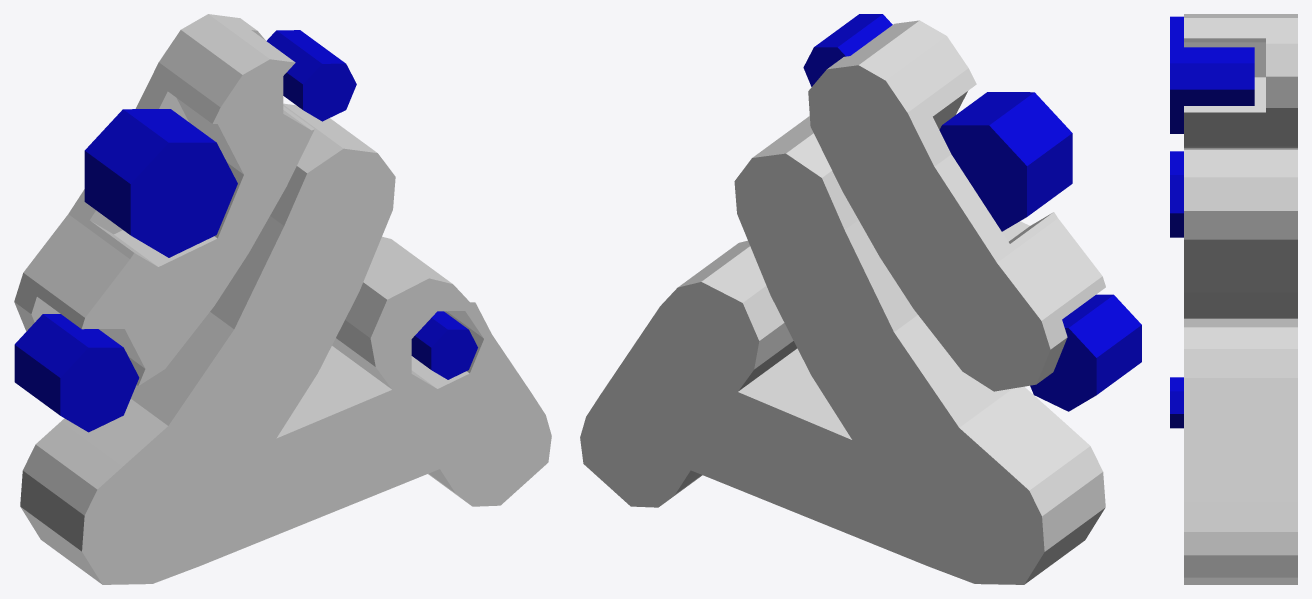
File: Ch_Lite_China_么_01.fbx
3 views of the same model, side by side, from view 1: azimuth 30°, elevation 25°; view 2: azimuth 150°, elevation 25°; view 3: azimuth 270°, elevation 25° (orthographic). The views are drawn at different scales.
Visible parts, largest first — view 1: sphere1; view 2: sphere1; view 3: sphere1.
Boxes of the visible parts, x1=… form: sphere1: x1=14, y1=14, x2=551, y2=584; sphere1: x1=580, y1=14, x2=1141, y2=584; sphere1: x1=1170, y1=14, x2=1297, y2=584.
Size of the model in its own units: 0.9312 by 0.8965 by 0.2242.
